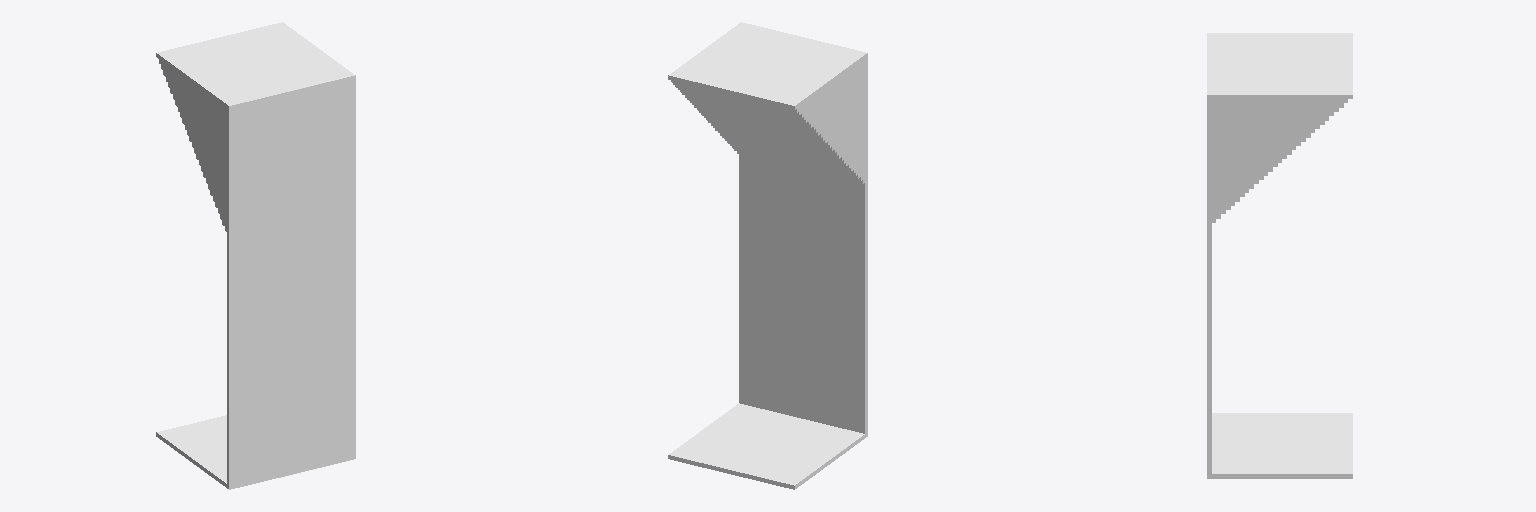
The model's file is WallDer.obj.
3 views of the same model, side by side, from view 1: azimuth 30°, elevation 25°; view 2: azimuth 150°, elevation 25°; view 3: azimuth 270°, elevation 25° (orthographic).
Visible parts, largest first — view 1: object 1; view 2: object 1; view 3: object 1.
Boxes of the visible parts, box(x1,y1,x2,y2) form: object 1: box(156, 22, 355, 489); object 1: box(668, 22, 867, 489); object 1: box(1207, 33, 1352, 478).
Bounding box in the file's own units: 3.1 × 9 × 3.1.